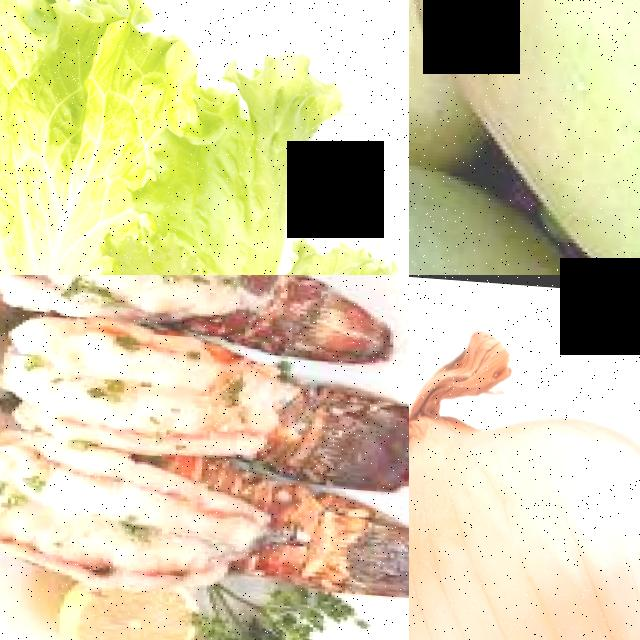lettuce: (0, 0, 409, 275)
lobster tails: (89, 465, 409, 581), (129, 348, 409, 468), (106, 275, 405, 342)
mango: (409, 0, 640, 275)
onion: (409, 399, 640, 640)
